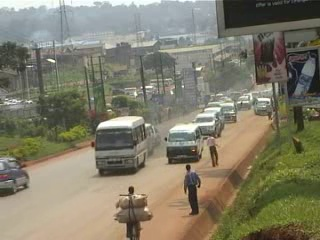Car: (0, 155, 31, 195), (191, 112, 222, 138), (235, 94, 252, 110), (153, 127, 162, 147)
